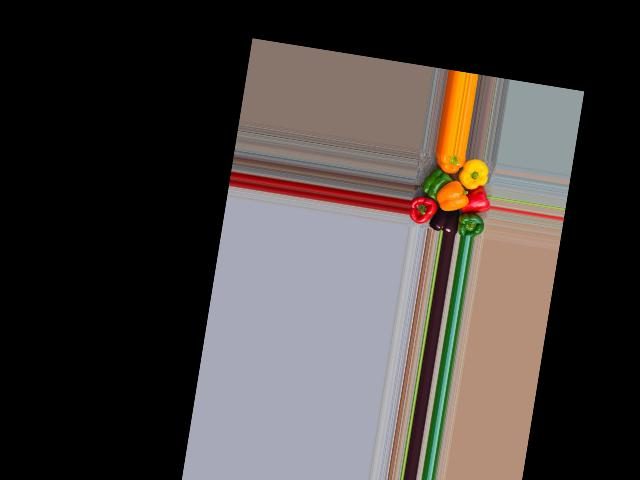bell_pepper: (425, 151, 465, 182)
